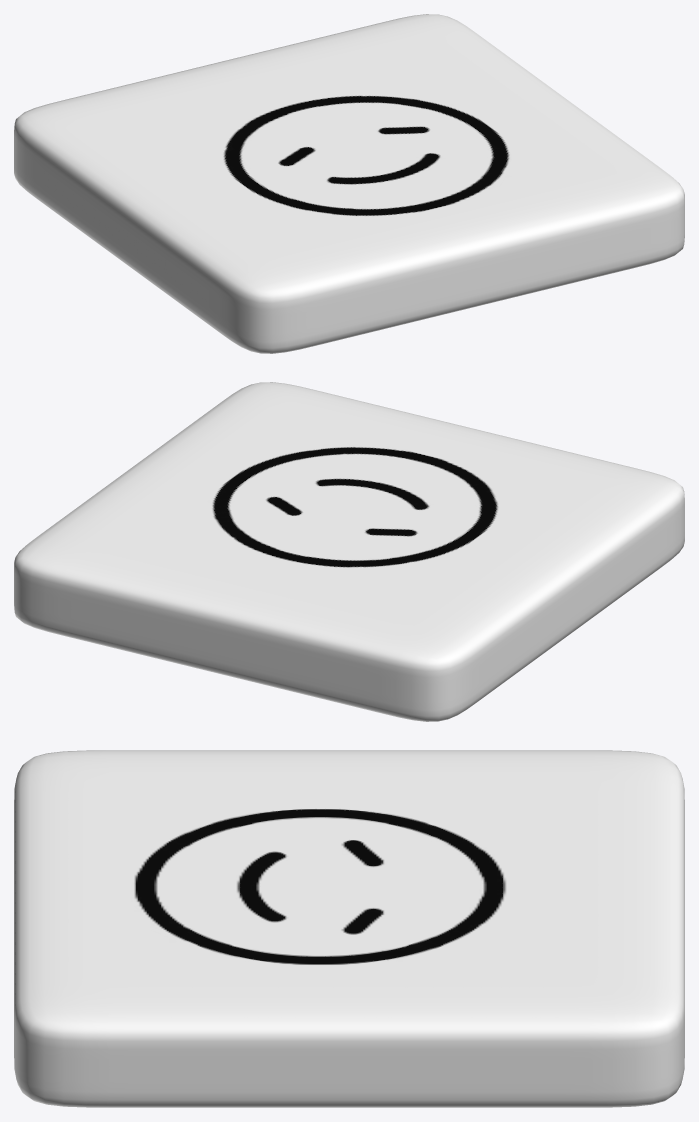
File: smile1.fbx
3 views of the same model, one above another, from view 1: azimuth 30°, elevation 25°; view 2: azimuth 150°, elevation 25°; view 3: azimuth 270°, elevation 25° (orthographic). The views are drawn at different scales.
Parts seen in each view (by area): view 1: 立方体; view 2: 立方体; view 3: 立方体.
Boxes of the visible parts, x1=… form: 立方体: x1=14, y1=14, x2=684, y2=353; 立方体: x1=14, y1=382, x2=684, y2=721; 立方体: x1=14, y1=750, x2=684, y2=1107.
Size of the model in its own units: 200 by 30 by 200.
